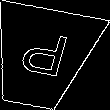P_S: (13, 29, 70, 86)
